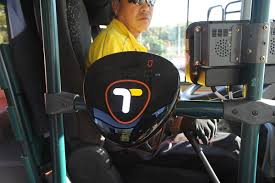terminal: (81, 50, 183, 150)
